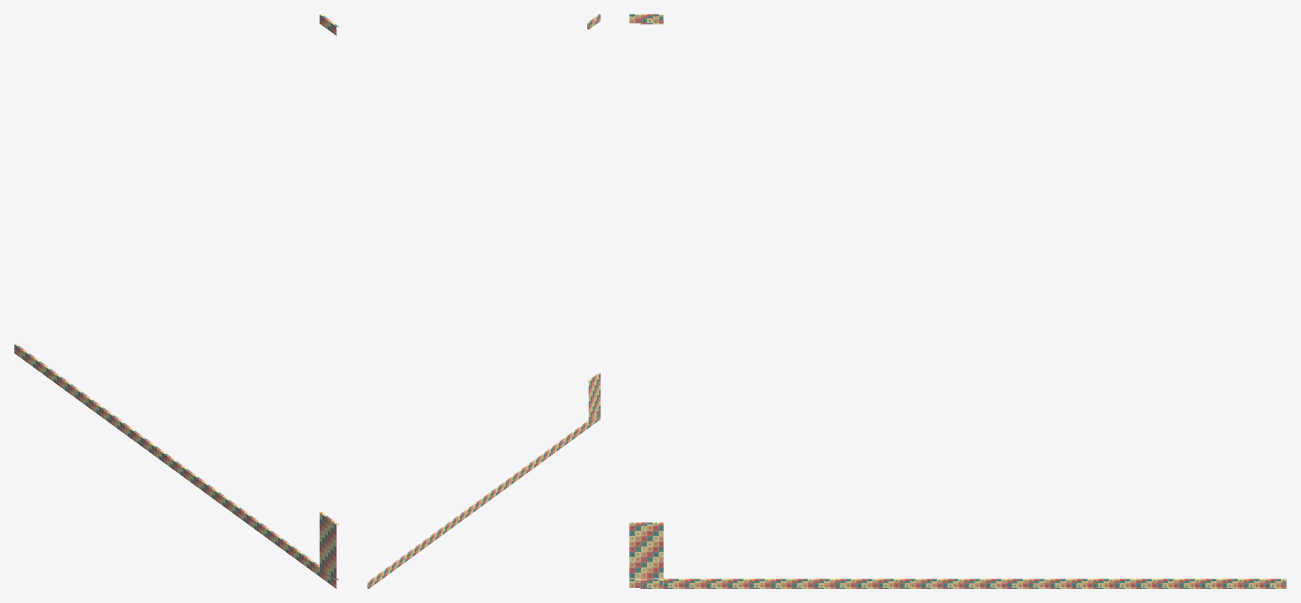
The model's file is posts.glb.
3 views of the same model, side by side, from view 1: azimuth 30°, elevation 25°; view 2: azimuth 150°, elevation 25°; view 3: azimuth 270°, elevation 25° (orthographic). The views are drawn at different scales.
Visible parts, largest first — view 1: connectionBarLeftDepth, connectionBarLeftHeight; view 2: connectionBarLeftDepth, connectionBarLeftHeight; view 3: connectionBarLeftDepth, connectionBarLeftHeight.
Boxes of the visible parts, x1,y1,x2,y2 form: connectionBarLeftDepth: (14,344,329,583); connectionBarLeftHeight: (319,512,338,581); connectionBarLeftDepth: (367,417,595,588); connectionBarLeftHeight: (587,372,600,421); connectionBarLeftDepth: (643,578,1286,588); connectionBarLeftHeight: (629,522,663,578).
Bounding box in the file's own units: 0.047 × 10.16 × 10.55.
Materials: 1 (1 with a texture image).
